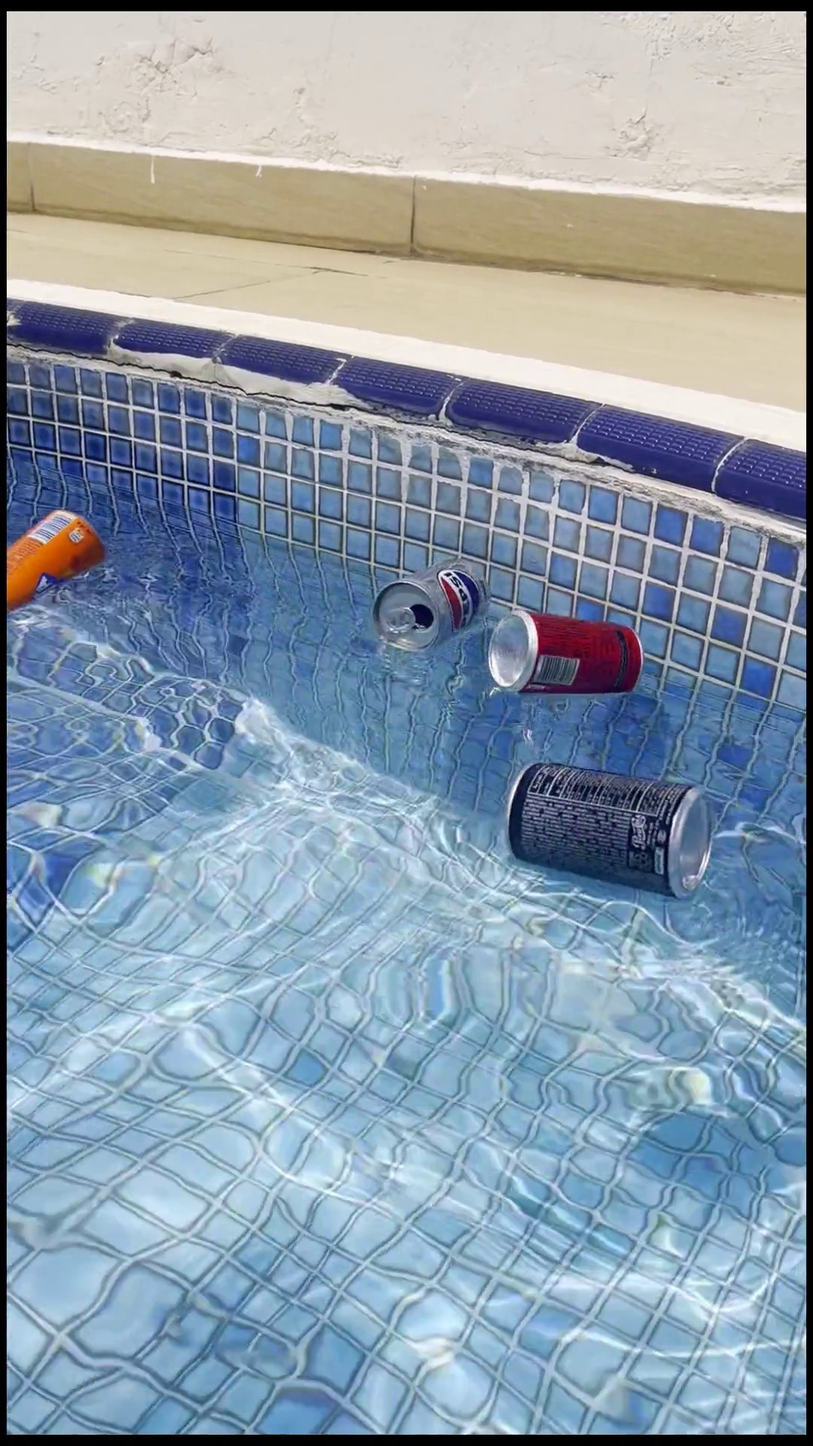debris: (500, 735, 723, 938), (486, 567, 649, 731), (362, 515, 491, 681), (8, 484, 114, 641)
